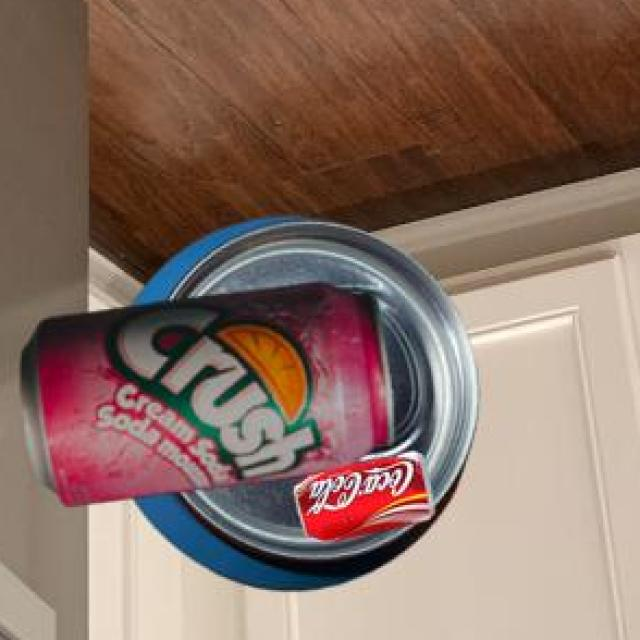logam: (136, 221, 482, 593), (25, 286, 396, 508), (297, 456, 439, 545)
